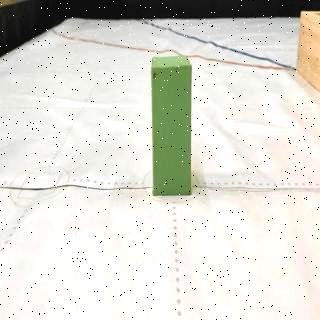greenbox: (152, 56, 192, 197)
